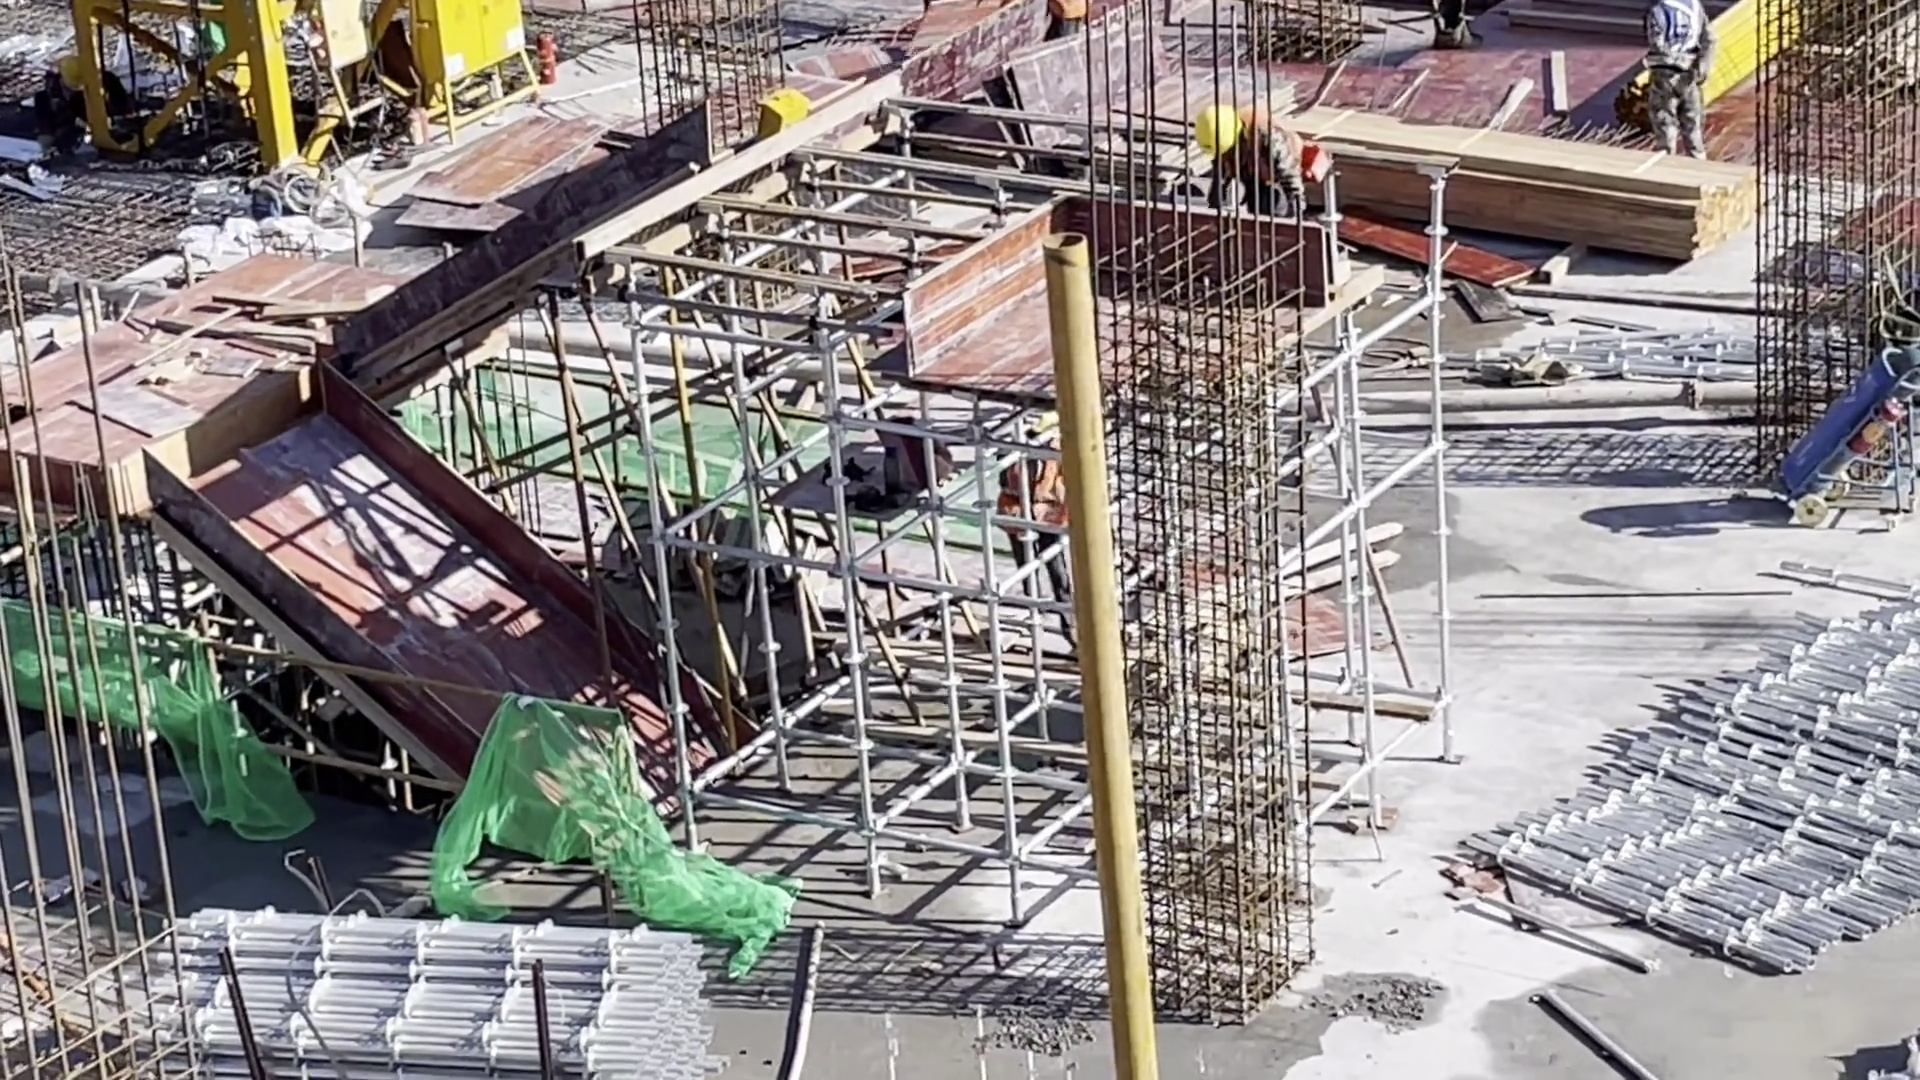ebox: (410, 3, 540, 147)
helmet: (1200, 99, 1236, 153), (58, 58, 91, 88)
person: (992, 427, 1085, 666), (1199, 101, 1308, 211), (1638, 4, 1715, 154), (37, 62, 120, 150)
scaffold: (1462, 590, 1920, 973), (147, 898, 722, 1080)
vest: (992, 456, 1070, 536), (1241, 113, 1302, 191), (1647, 6, 1700, 72)
wood: (1289, 116, 1759, 262)
